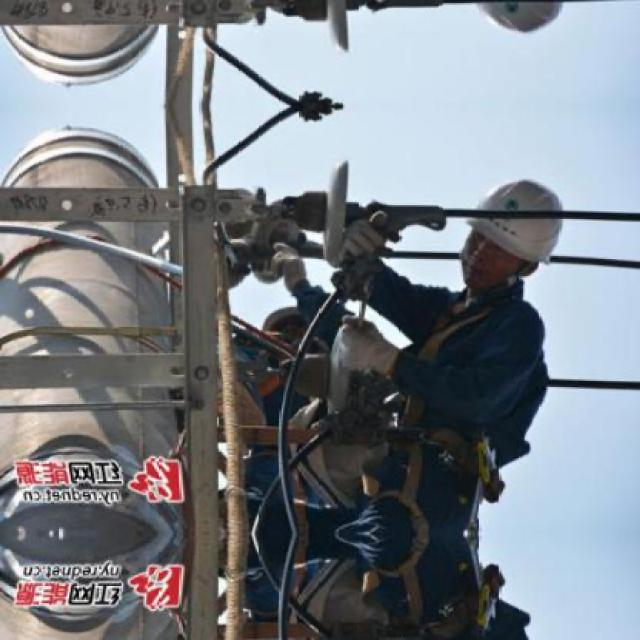con casco: (412, 165, 588, 324)
